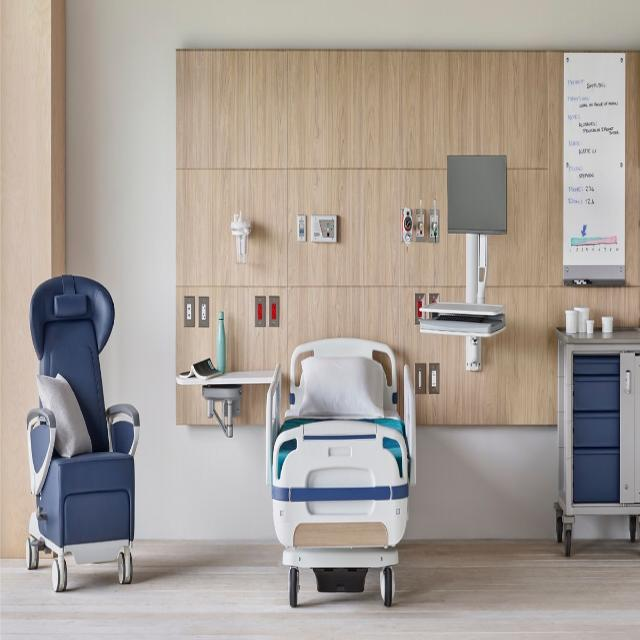patient_bed: (280, 353, 422, 561)
